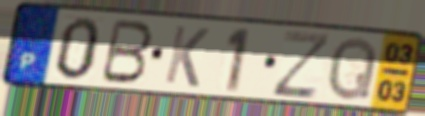0: (54, 15, 104, 82)
1: (224, 26, 253, 94)
B: (98, 17, 156, 86)
K: (162, 23, 212, 90)
Q: (325, 34, 380, 103)
Z: (269, 29, 335, 101)
